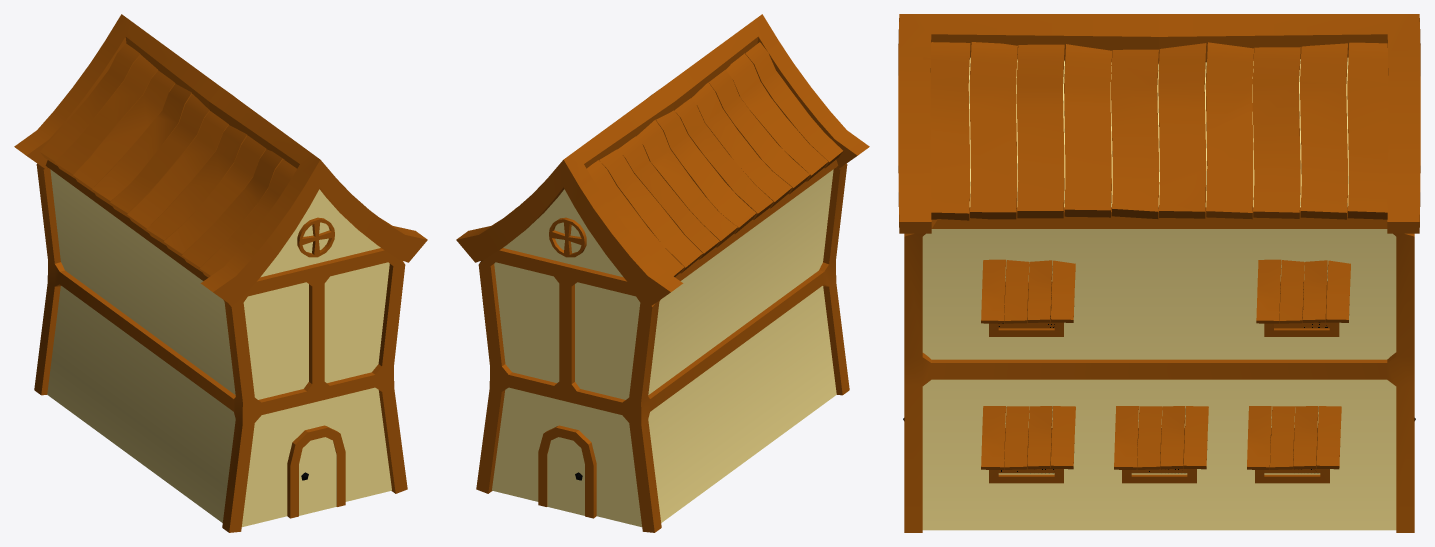
The model's file is DoubleStoryHouse.fbx.
3 views of the same model, side by side, from view 1: azimuth 30°, elevation 25°; view 2: azimuth 150°, elevation 25°; view 3: azimuth 270°, elevation 25° (orthographic). The views are drawn at different scales.
Visible parts, largest first — view 1: DoubleStoryHouse; view 2: DoubleStoryHouse; view 3: DoubleStoryHouse.
Part boxes in pixels (left/top/right/bottom): DoubleStoryHouse: left=14, top=14, right=427, bottom=532; DoubleStoryHouse: left=456, top=14, right=869, bottom=532; DoubleStoryHouse: left=898, top=14, right=1420, bottom=532.
Size of the model in its own units: 3.85 by 6.06 by 6.18.
